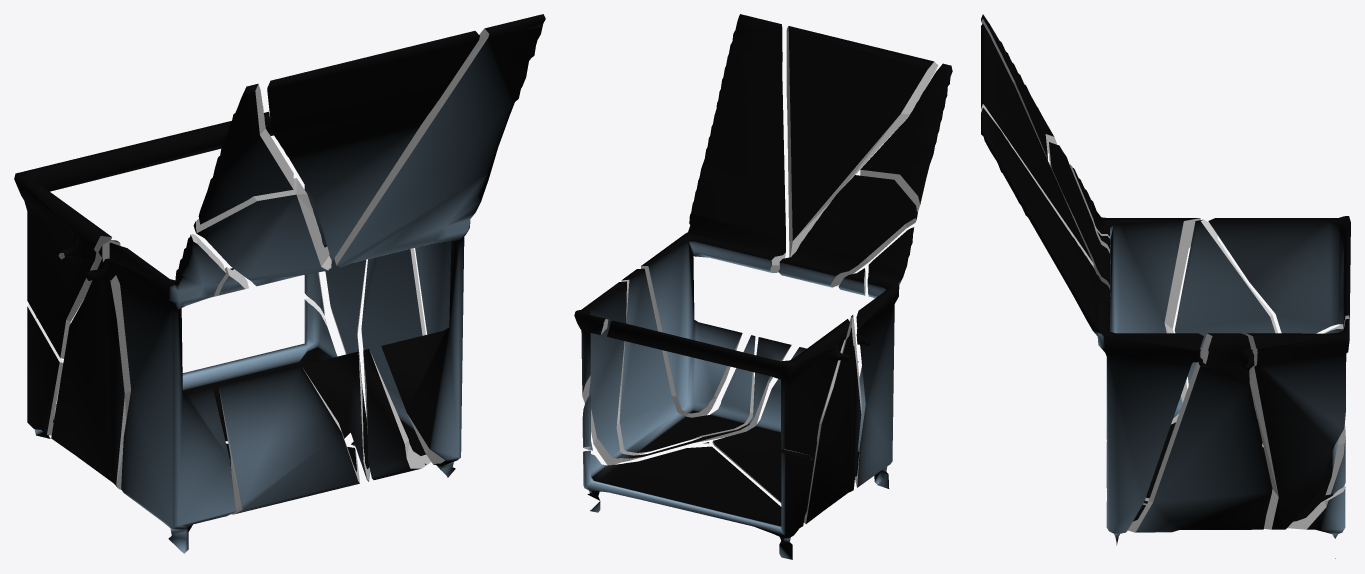
The model's file is Dumpsters(1).glb.
3 renders of one model, left to right at view 1: azimuth 30°, elevation 25°; view 2: azimuth 150°, elevation 25°; view 3: azimuth 270°, elevation 25°, orthographic. The views are drawn at different scales.
Visible parts, largest first — view 1: Root.003, Root.005, Root, Root.011, Root.010, Root.013, Root.007, Root.002, Root.001, Root.004; view 2: Root.003, Root.011, Root.002, Root.005, Root.013, Root.007, Root.010, Root, Root.004, Root.001, Root.006; view 3: Root.003, Root.013, Root.004, Root.010, Root, Root.005, Root.011, Root.007, Root.002, Root.001, Root.009.
Boxes of the visible parts, x1,y1,x2,y2 form: Root.003: [334, 14, 545, 477]; Root.005: [51, 240, 359, 514]; Root: [84, 234, 235, 553]; Root.011: [267, 31, 479, 261]; Root.010: [14, 111, 273, 358]; Root.013: [361, 248, 430, 479]; Root.007: [193, 178, 331, 286]; Root.002: [27, 298, 350, 441]; Root.001: [198, 83, 293, 224]; Root.004: [304, 185, 370, 481]; Root.003: [641, 14, 785, 417]; Root.011: [786, 26, 938, 257]; Root.002: [583, 446, 813, 559]; Root.005: [712, 315, 861, 523]; Root.013: [616, 268, 755, 455]; Root.007: [778, 175, 917, 287]; Root.010: [607, 319, 849, 456]; Root: [855, 227, 914, 488]; Root.004: [574, 281, 791, 465]; Root.001: [860, 63, 952, 211]; Root.006: [838, 268, 865, 295]; Root.003: [981, 108, 1209, 545]; Root.013: [1128, 333, 1271, 532]; Root.004: [1143, 319, 1349, 529]; Root.010: [1208, 216, 1350, 333]; Root: [1069, 164, 1200, 440]; Root.005: [1106, 219, 1277, 501]; Root.011: [981, 24, 1093, 267]; Root.007: [1049, 142, 1110, 296]; Root.002: [1263, 324, 1345, 558]; Root.001: [981, 14, 1056, 160]; Root.009: [1325, 424, 1345, 495].
Bounding box in the file's own units: 1.47 × 2.19 × 1.7.
